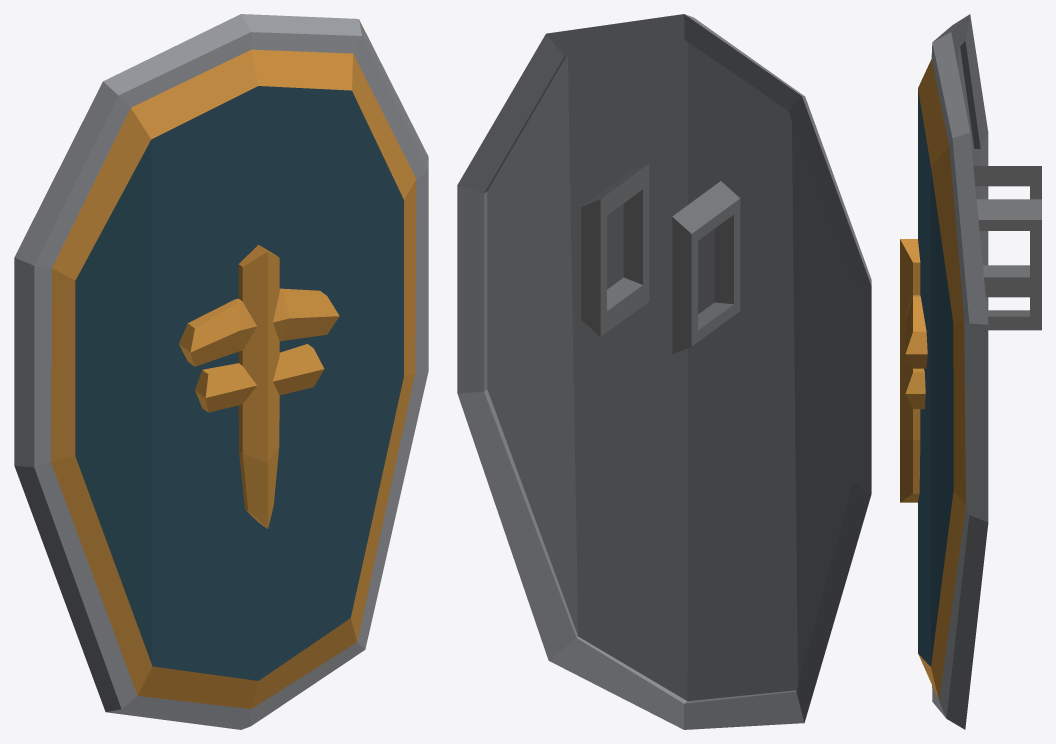
The model's file is LongShield.glb.
3 renders of one model, left to right at view 1: azimuth 30°, elevation 25°; view 2: azimuth 150°, elevation 25°; view 3: azimuth 270°, elevation 25°, orthographic. The views are drawn at different scales.
Visible parts, largest first — view 1: LongShield; view 2: LongShield; view 3: LongShield.
Boxes of the visible parts, box(x1,y1,x2,y2) form: LongShield: box(14, 14, 428, 729); LongShield: box(457, 14, 871, 729); LongShield: box(900, 14, 1041, 729).
Size of the model in its own units: 0.4414 by 0.7292 by 0.138.
Materials: 1 (1 with a texture image).
